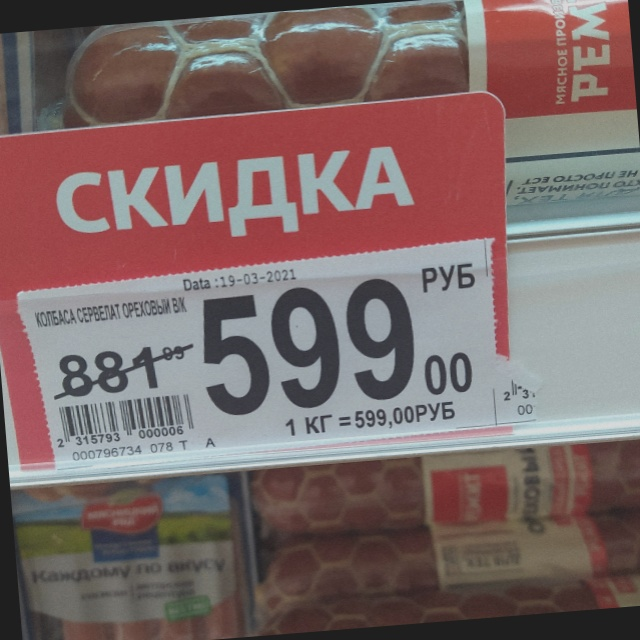barcode: (52, 394, 196, 449)
name: (32, 295, 190, 331)
price: (200, 279, 479, 418)
price_tag: (18, 239, 496, 471)
